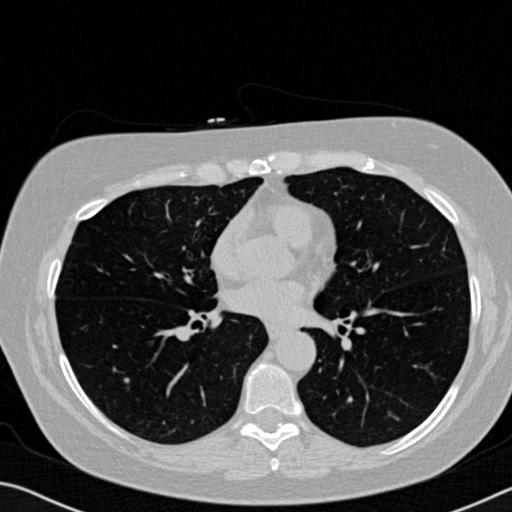nodule: (121, 375, 132, 386)
